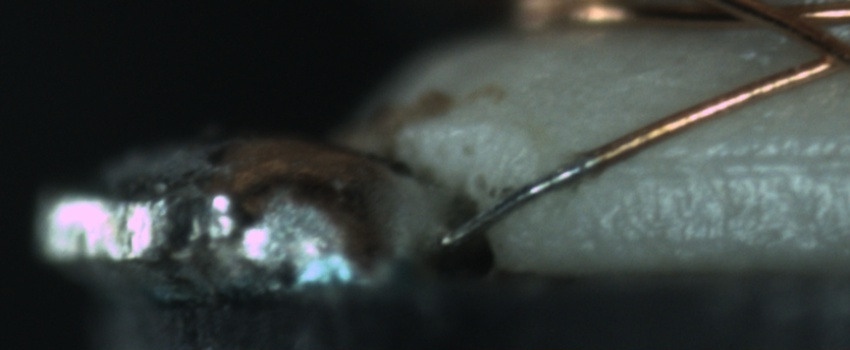CL: (792, 19, 849, 80)
DL: (610, 134, 850, 198)
TS: (439, 151, 602, 249)
